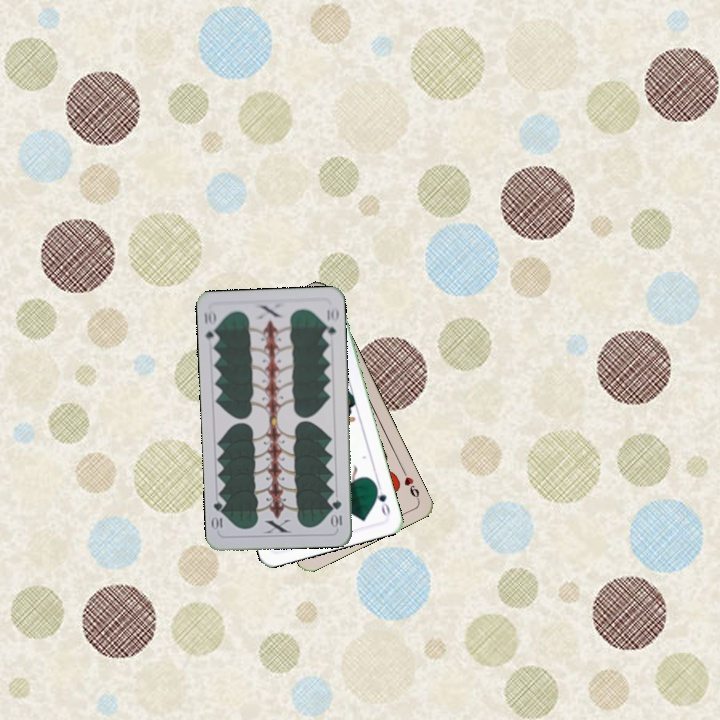G10: (200, 306, 221, 347), (329, 496, 345, 530)
GO: (371, 479, 393, 519)
H9: (398, 465, 422, 503)
